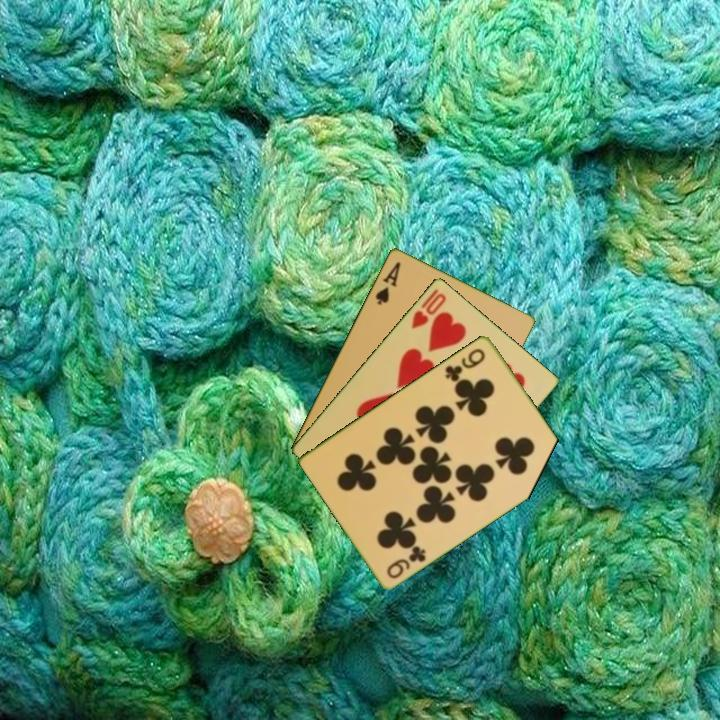10h: (407, 285, 449, 331)
9c: (441, 344, 488, 384), (383, 542, 429, 581)
As: (371, 258, 403, 308)
